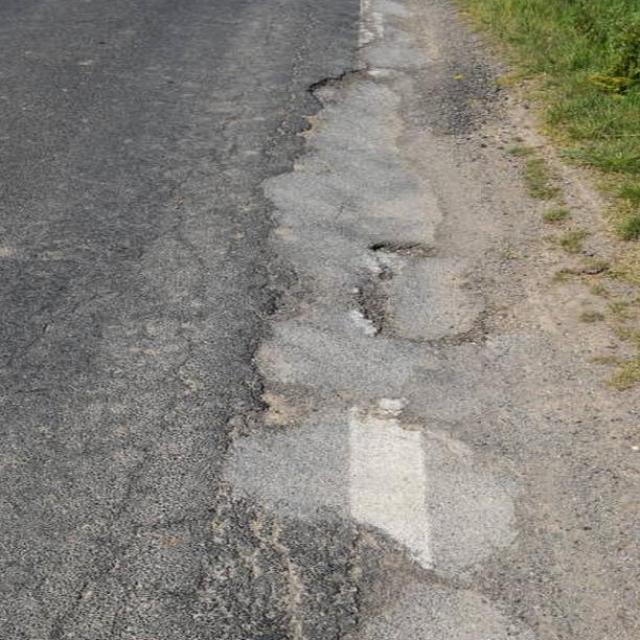Pinggir: (164, 48, 514, 604)
